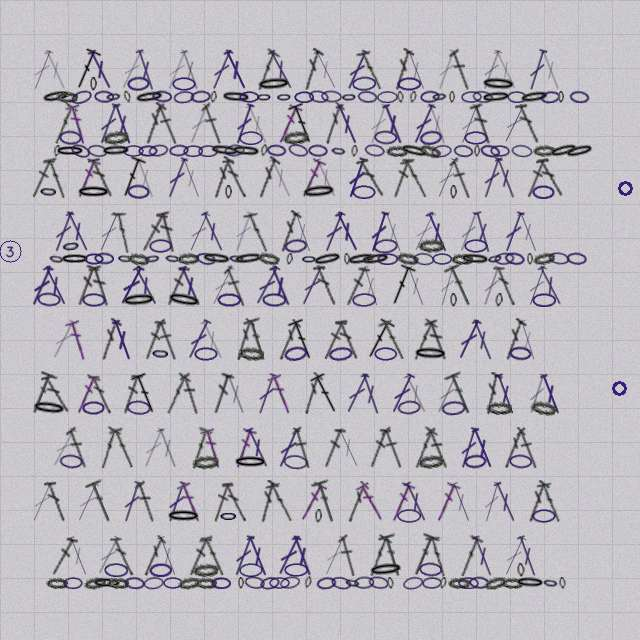chain: (166, 290, 202, 310), (31, 399, 67, 417), (301, 183, 337, 200), (368, 561, 404, 578), (548, 141, 580, 160), (256, 76, 292, 92), (121, 292, 157, 308), (481, 76, 516, 92), (399, 142, 430, 160), (564, 142, 595, 160), (312, 250, 343, 268), (41, 88, 72, 105), (413, 346, 448, 361), (134, 89, 165, 105), (519, 89, 550, 105), (346, 251, 377, 267), (360, 251, 391, 267), (76, 185, 111, 199), (233, 455, 268, 469), (166, 509, 201, 523), (530, 399, 557, 417), (209, 143, 240, 158), (201, 251, 232, 266), (233, 251, 264, 266), (102, 129, 129, 146), (282, 129, 309, 146), (417, 453, 444, 470), (418, 142, 442, 160), (192, 454, 219, 470), (192, 562, 219, 578), (483, 574, 507, 592), (283, 345, 308, 362), (221, 90, 251, 104), (481, 90, 511, 104), (231, 144, 261, 158), (460, 252, 490, 266), (70, 88, 93, 106), (69, 142, 92, 160), (419, 129, 443, 146), (532, 250, 556, 267), (373, 238, 398, 254), (328, 346, 353, 362), (441, 400, 466, 416), (283, 454, 308, 470), (101, 144, 131, 157), (418, 238, 444, 253), (238, 346, 264, 361), (515, 576, 545, 589), (284, 238, 308, 254), (83, 575, 107, 591), (177, 575, 201, 591), (126, 400, 151, 415), (287, 142, 309, 159), (486, 401, 512, 415), (352, 76, 376, 91), (55, 145, 85, 157), (60, 253, 90, 265), (37, 292, 61, 307), (397, 400, 421, 415), (59, 454, 83, 469), (92, 577, 122, 589), (479, 143, 501, 159), (195, 251, 217, 267), (259, 575, 281, 591), (330, 575, 352, 591), (402, 575, 424, 591), (127, 76, 150, 91), (59, 130, 82, 145), (374, 130, 397, 145), (127, 184, 150, 199), (257, 251, 280, 266), (396, 251, 419, 266), (509, 346, 532, 361), (464, 454, 487, 469), (509, 454, 532, 469), (419, 562, 442, 577), (172, 77, 196, 91), (397, 77, 421, 91), (239, 131, 263, 145), (464, 131, 488, 145), (352, 185, 376, 199), (464, 239, 488, 253), (82, 293, 106, 307), (217, 293, 241, 307), (262, 293, 286, 307), (352, 293, 376, 307), (532, 293, 556, 307), (194, 347, 218, 361), (397, 509, 421, 523), (532, 509, 556, 523), (104, 563, 128, 577), (239, 563, 263, 577), (284, 563, 308, 577), (548, 251, 570, 266), (279, 575, 301, 590), (532, 185, 555, 199), (149, 239, 172, 253), (127, 252, 150, 266), (374, 347, 397, 361), (82, 401, 105, 415), (149, 563, 172, 577), (61, 238, 81, 254), (308, 89, 329, 104), (148, 143, 169, 158), (364, 143, 385, 158), (504, 251, 525, 266), (244, 575, 265, 590), (368, 575, 389, 590), (173, 90, 195, 104), (511, 144, 533, 158), (413, 252, 435, 266), (357, 90, 378, 104), (472, 90, 493, 104), (540, 90, 561, 104), (569, 90, 590, 104), (87, 144, 108, 158), (431, 144, 452, 158), (453, 144, 474, 158), (124, 576, 145, 590), (143, 576, 164, 590), (316, 576, 337, 590), (533, 144, 555, 157), (177, 252, 199, 265), (39, 184, 58, 199), (151, 346, 170, 361), (190, 90, 211, 103), (321, 90, 342, 103), (224, 144, 245, 157), (266, 144, 287, 157), (494, 252, 515, 265), (566, 252, 587, 265), (486, 251, 504, 266), (219, 509, 238, 523), (56, 91, 78, 103), (386, 145, 408, 157), (451, 253, 473, 265), (46, 577, 68, 589), (107, 577, 129, 589), (195, 577, 217, 589), (448, 577, 470, 589), (501, 577, 523, 589), (94, 90, 114, 103), (152, 90, 172, 103), (420, 90, 440, 103), (169, 144, 189, 157), (308, 144, 328, 157), (94, 252, 114, 265), (354, 576, 374, 589), (469, 576, 489, 589), (377, 91, 398, 103), (461, 91, 482, 103), (123, 145, 144, 157), (377, 253, 398, 265), (269, 577, 290, 589), (458, 577, 479, 589), (239, 91, 259, 103), (294, 91, 314, 103), (507, 91, 527, 103), (138, 145, 158, 157), (183, 145, 203, 157), (198, 145, 218, 157), (490, 145, 510, 157), (84, 253, 104, 265), (432, 253, 452, 265), (63, 577, 83, 589), (163, 577, 183, 589), (211, 577, 231, 589), (422, 577, 442, 589), (330, 144, 347, 158), (48, 252, 65, 266), (344, 576, 361, 590), (542, 576, 559, 590), (105, 90, 122, 103), (431, 90, 448, 103), (144, 252, 161, 265), (164, 252, 181, 265), (228, 252, 245, 265), (117, 252, 133, 265), (256, 91, 272, 103), (276, 91, 292, 103), (341, 91, 357, 103), (301, 253, 317, 265), (123, 90, 132, 103), (495, 293, 503, 307), (517, 563, 525, 577), (260, 144, 268, 157), (304, 576, 312, 589), (90, 77, 97, 91), (225, 185, 232, 199), (450, 185, 457, 199), (450, 293, 457, 307), (315, 509, 322, 523), (409, 91, 417, 103), (53, 145, 61, 157), (439, 577, 447, 589), (210, 91, 217, 103), (397, 91, 404, 103), (351, 145, 358, 157), (286, 253, 293, 265), (387, 577, 394, 589), (559, 577, 566, 589), (449, 91, 455, 103), (558, 91, 564, 103), (474, 145, 480, 157), (344, 253, 350, 265), (527, 253, 533, 265), (238, 577, 244, 589)
double: (362, 317, 396, 362), (309, 371, 343, 416), (444, 263, 477, 308), (444, 371, 477, 416), (26, 371, 58, 416), (85, 479, 117, 524), (408, 533, 440, 578), (265, 480, 297, 524), (71, 47, 102, 92), (287, 101, 318, 146), (386, 263, 417, 308), (287, 317, 318, 362), (130, 371, 161, 416), (265, 48, 297, 91), (130, 264, 162, 307), (251, 264, 283, 307), (48, 426, 80, 469), (296, 480, 328, 523), (355, 480, 387, 523), (400, 156, 431, 200), (377, 318, 408, 362), (408, 318, 439, 362), (161, 372, 192, 416), (117, 155, 147, 200), (311, 479, 341, 524), (85, 48, 116, 91), (310, 48, 341, 91), (332, 210, 363, 253), (40, 264, 71, 307), (116, 264, 147, 307), (535, 264, 566, 307), (48, 318, 79, 361), (183, 318, 214, 361), (197, 318, 228, 361), (93, 534, 124, 577), (273, 534, 304, 577), (41, 48, 71, 92), (342, 48, 372, 92), (356, 48, 386, 92), (49, 102, 79, 146), (297, 156, 327, 200), (432, 372, 462, 416), (409, 426, 439, 470), (72, 480, 102, 524), (198, 534, 228, 578), (319, 534, 349, 578), (454, 534, 484, 578), (499, 534, 529, 578), (243, 317, 272, 362), (378, 533, 407, 578), (117, 48, 147, 91), (221, 48, 251, 91), (491, 48, 521, 91), (499, 102, 529, 145), (266, 156, 296, 199), (311, 156, 341, 199), (63, 210, 93, 253), (198, 210, 228, 253), (409, 210, 439, 253), (207, 264, 237, 307), (297, 264, 327, 307), (454, 318, 484, 361), (342, 372, 372, 415), (387, 372, 417, 415), (401, 372, 431, 415), (243, 426, 273, 469), (333, 426, 363, 469), (401, 480, 431, 523), (207, 48, 236, 92), (252, 48, 281, 92), (243, 102, 272, 146), (274, 102, 303, 146), (333, 102, 362, 146), (409, 102, 438, 146), (432, 156, 461, 200), (94, 210, 123, 254), (184, 210, 213, 254), (243, 210, 272, 254), (423, 210, 452, 254), (27, 264, 56, 308), (176, 264, 205, 308), (266, 264, 295, 308), (72, 372, 101, 416), (108, 426, 137, 470), (139, 426, 168, 470), (274, 426, 303, 470), (27, 480, 56, 524), (176, 480, 205, 524), (387, 480, 416, 524), (432, 480, 461, 524), (491, 480, 520, 524), (536, 480, 565, 524), (364, 534, 393, 578), (356, 157, 386, 199), (41, 373, 71, 415), (536, 156, 565, 199), (28, 48, 56, 92), (163, 48, 191, 92), (402, 48, 430, 92), (537, 48, 565, 92), (185, 102, 213, 146), (379, 102, 407, 146), (455, 102, 483, 146), (73, 156, 101, 200), (163, 156, 191, 200), (177, 156, 205, 200), (492, 156, 520, 200), (320, 210, 348, 254), (514, 210, 542, 254), (424, 318, 452, 362), (469, 318, 497, 362), (222, 372, 250, 416), (267, 372, 295, 416), (537, 372, 565, 416), (154, 426, 182, 470), (185, 426, 213, 470), (469, 426, 497, 470), (447, 480, 475, 524), (64, 534, 92, 578), (244, 534, 272, 578), (469, 534, 497, 578), (139, 211, 168, 253), (49, 535, 78, 577), (253, 156, 281, 199), (177, 48, 204, 92), (433, 48, 460, 92), (478, 48, 505, 92), (95, 102, 122, 146), (365, 102, 392, 146), (424, 102, 451, 146), (469, 102, 496, 146), (42, 156, 69, 200), (132, 156, 159, 200), (50, 210, 77, 254), (230, 210, 257, 254), (289, 210, 316, 254), (455, 210, 482, 254), (500, 210, 527, 254), (73, 264, 100, 308), (402, 264, 429, 308), (478, 264, 505, 308), (523, 264, 550, 308), (109, 318, 136, 362), (253, 372, 280, 416), (492, 372, 519, 416), (95, 426, 122, 470), (163, 480, 190, 524), (154, 534, 181, 578), (230, 534, 257, 578), (289, 534, 316, 578), (514, 534, 541, 578), (140, 102, 167, 145), (208, 156, 235, 199), (275, 210, 302, 253), (500, 318, 527, 361), (523, 480, 550, 523), (133, 48, 159, 92), (524, 48, 550, 92), (110, 102, 136, 146), (231, 102, 257, 146), (344, 156, 370, 200), (479, 156, 505, 200), (366, 210, 392, 254), (380, 210, 406, 254), (88, 264, 114, 308), (209, 372, 235, 416), (358, 372, 384, 416), (524, 372, 550, 416), (231, 426, 257, 470), (119, 480, 145, 524), (154, 103, 181, 145), (222, 157, 249, 199), (222, 265, 249, 307), (343, 265, 370, 307), (275, 319, 302, 361), (500, 427, 527, 469), (222, 481, 249, 523), (140, 535, 167, 577), (389, 48, 415, 91), (515, 102, 541, 145), (88, 156, 114, 199), (164, 264, 190, 307), (96, 318, 122, 361), (380, 426, 406, 469), (65, 102, 90, 146), (358, 264, 383, 308), (65, 318, 90, 362), (515, 318, 540, 362), (200, 426, 225, 470), (456, 426, 481, 470), (479, 480, 504, 524), (425, 534, 450, 578), (29, 157, 55, 199), (448, 157, 474, 199), (321, 319, 347, 361), (88, 373, 114, 415), (425, 427, 451, 469), (515, 427, 541, 469), (344, 481, 370, 523), (110, 535, 136, 577), (186, 535, 212, 577), (299, 48, 324, 91), (448, 48, 473, 91), (200, 102, 225, 145), (321, 102, 346, 145), (524, 156, 549, 199), (313, 264, 338, 307), (493, 264, 518, 307), (155, 318, 180, 361), (335, 318, 360, 361), (65, 426, 90, 469), (321, 426, 346, 469), (156, 210, 180, 254), (471, 210, 495, 254), (435, 264, 459, 308), (390, 156, 414, 199), (142, 318, 166, 361), (232, 318, 256, 361), (300, 372, 324, 415), (367, 426, 391, 469), (134, 480, 158, 523), (255, 480, 279, 523), (111, 210, 134, 254), (120, 372, 143, 415), (179, 372, 202, 415), (480, 372, 503, 415), (291, 426, 314, 469), (44, 480, 67, 523), (211, 480, 233, 523), (337, 534, 359, 577)
noise: (0, 238, 23, 264), (615, 178, 635, 198), (610, 379, 628, 397)
